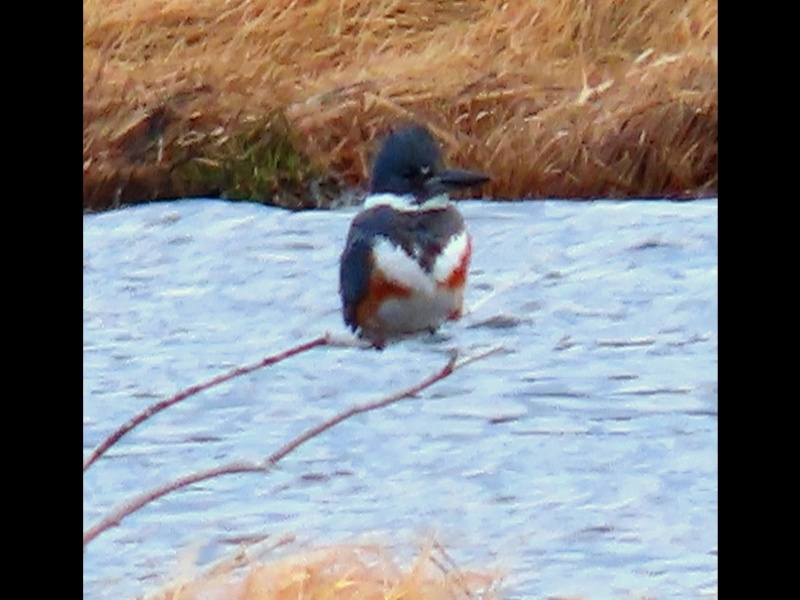kingfisher: (338, 123, 495, 356)
